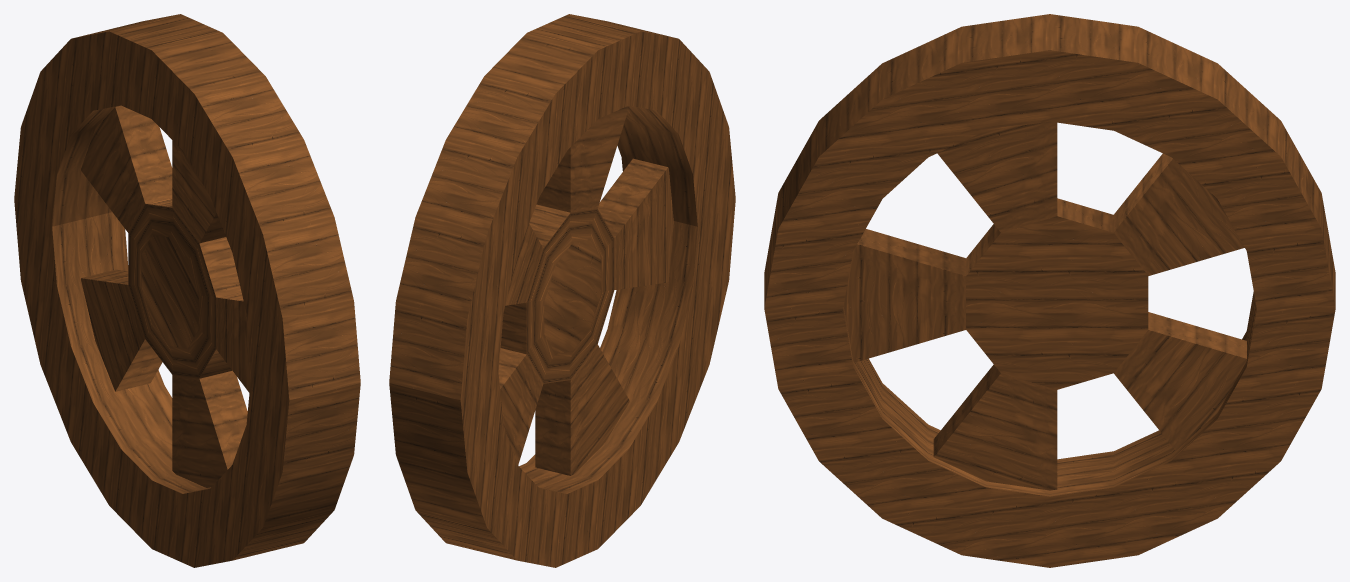
Rendered from WoodenWheel.fbx.
3 views of the same model, side by side, from view 1: azimuth 30°, elevation 25°; view 2: azimuth 150°, elevation 25°; view 3: azimuth 270°, elevation 25° (orthographic). The views are drawn at different scales.
Visible parts, largest first — view 1: Cylinder.001; view 2: Cylinder.001; view 3: Cylinder.001.
Boxes of the visible parts, <box> form: Cylinder.001: <box>14,14,360,567</box>; Cylinder.001: <box>389,14,735,567</box>; Cylinder.001: <box>764,14,1335,567</box>.
Bounding box in the file's own units: 11.81 × 78.74 × 78.74.
